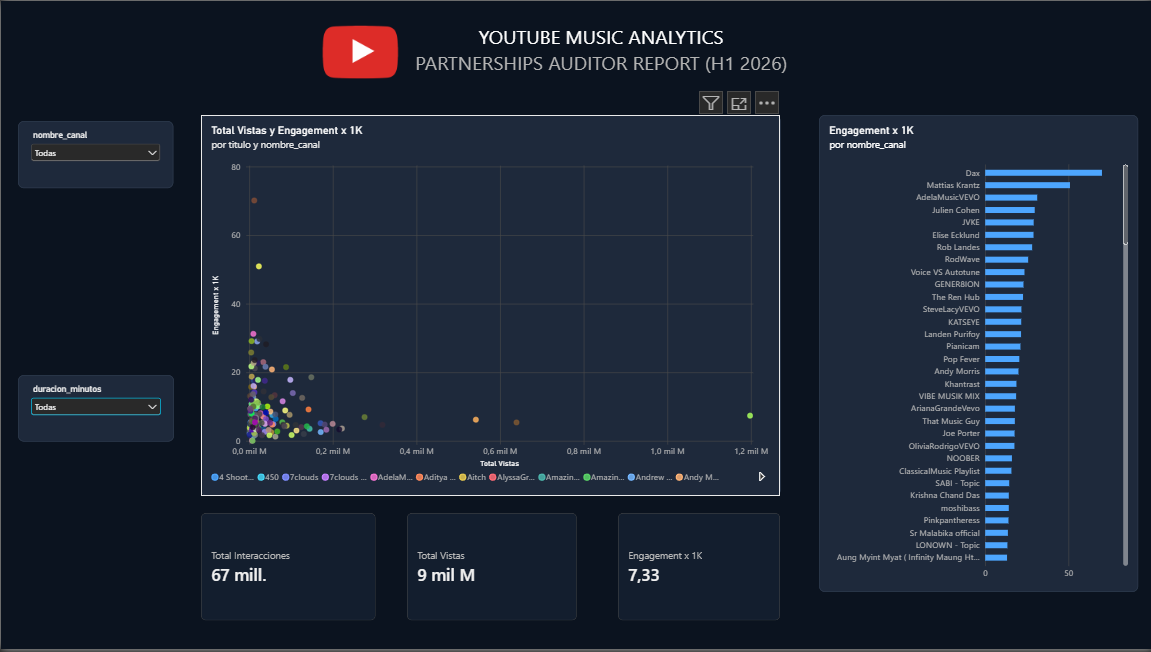

Layout of this report page (visuals, bound fields, positions):
{"tool":"powerbi","page":{"name":"Página 1","canvas":[1920,1080],"ordinal":0},"visuals":[{"type":"slicer","fields":{"Values":["tbl_videos_musicales.nombre_canal"]},"box":[27.9,199.5,259.4,111.7],"z":0},{"type":"slicer","fields":{"Values":["tbl_videos_musicales.duracion_minutos"]},"box":[27.9,623.8,259.7,110.9],"z":1000},{"type":"cardVisual","fields":{"Data":["tbl_videos_musicales.Total Vistas"]},"box":[677,853.9,283.3,179.6],"z":1001},{"type":"cardVisual","fields":{"Data":["tbl_videos_musicales.Total Interacciones"]},"box":[332.5,853.9,291.3,179.6],"z":1002},{"type":"cardVisual","fields":{"Data":["tbl_videos_musicales.Engagement x 1K"]},"box":[1028.1,853.9,270,179.6],"z":1003},{"type":"scatterChart","fields":{"Category":["tbl_videos_musicales.titulo"],"Series":["tbl_videos_musicales.nombre_canal"],"X":["tbl_videos_musicales.Total Vistas"],"Y":["tbl_videos_musicales.Engagement x 1K"]},"box":[332.5,190.2,965.8,634.7],"z":1004},{"type":"barChart","fields":{"Category":["tbl_videos_musicales.nombre_canal"],"Y":["tbl_videos_musicales.Engagement x 1K"]},"box":[1363.3,190.2,532,795.4],"z":1005},{"type":"image","box":[521.4,17.3,155.6,129],"z":1006},{"type":"textbox","box":[677,35.9,647.7,93.1],"z":1007}]}

Visuals, with their boxes in screenshot pixels (x1, y1, x2, y2), scaled from the page's 1920x1080 canvas onto the 1151x652 screenshot:
slicer - tbl_videos_musicales.nombre_canal: 17,120,172,188
slicer - tbl_videos_musicales.duracion_minutos: 17,377,172,444
cardVisual - tbl_videos_musicales.Total Vistas: 406,516,576,624
cardVisual - tbl_videos_musicales.Total Interacciones: 199,516,374,624
cardVisual - tbl_videos_musicales.Engagement x 1K: 616,516,778,624
scatterChart - tbl_videos_musicales.titulo x tbl_videos_musicales.nombre_canal: 199,115,778,498
barChart - tbl_videos_musicales.nombre_canal x tbl_videos_musicales.Engagement x 1K: 817,115,1136,595
image: 313,10,406,88
textbox: 406,22,794,78
